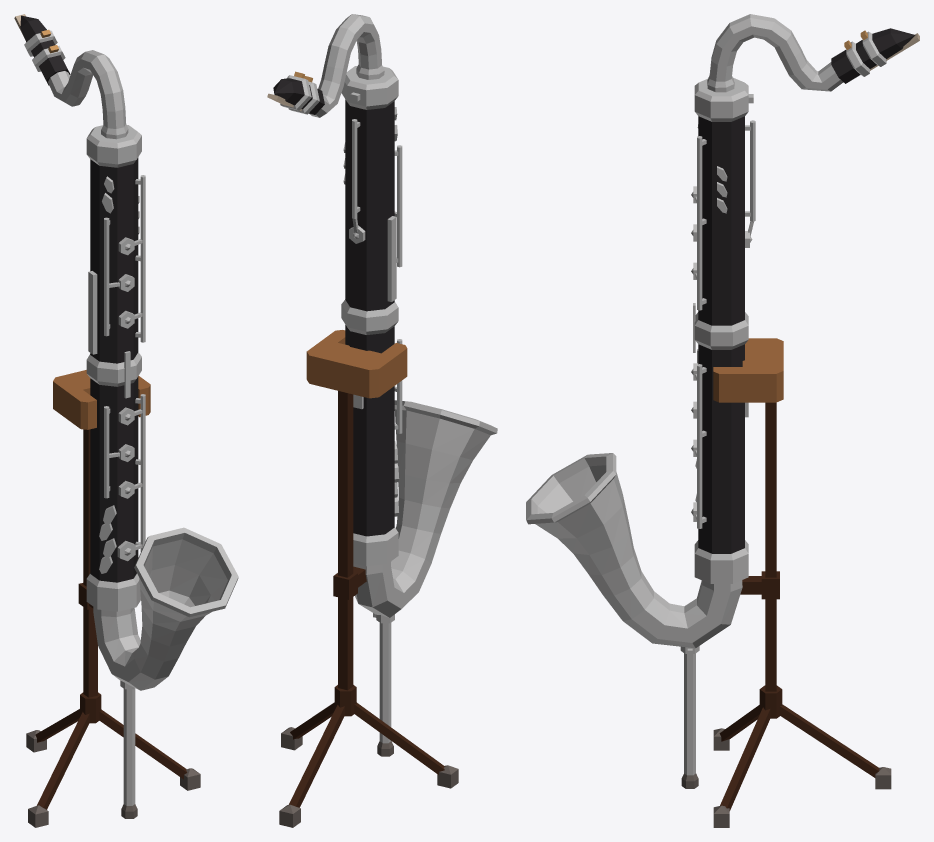
Rendered from bass-clarinet-244d78.glb.
3 renders of one model, left to right at view 1: azimuth 30°, elevation 25°; view 2: azimuth 150°, elevation 25°; view 3: azimuth 270°, elevation 25°, orthographic. The views are drawn at different scales.
Visible parts, largest first — view 1: clarinet-metal, clarinet, stand-mesh-metal, stand-mesh, mouthpiece-mesh, mouthpiece-mesh-metal; view 2: clarinet-metal, clarinet, stand-mesh-metal, stand-mesh, mouthpiece-mesh, mouthpiece-mesh-metal; view 3: clarinet-metal, clarinet, stand-mesh-metal, stand-mesh, mouthpiece-mesh, mouthpiece-mesh-metal.
Part boxes in pixels (x1,y1,x2,y2): clarinet-metal: [48, 50, 238, 805]; clarinet: [90, 157, 138, 818]; stand-mesh-metal: [35, 429, 187, 809]; stand-mesh: [26, 370, 200, 827]; mouthpiece-mesh: [14, 14, 70, 85]; mouthpiece-mesh-metal: [24, 29, 65, 71]; clarinet-metal: [309, 14, 497, 743]; clarinet: [345, 99, 394, 756]; stand-mesh-metal: [289, 391, 444, 807]; stand-mesh: [279, 330, 458, 827]; mouthpiece-mesh: [267, 78, 324, 114]; mouthpiece-mesh-metal: [280, 71, 319, 114]; clarinet-metal: [526, 14, 843, 775]; clarinet: [681, 116, 744, 788]; stand-mesh-metal: [719, 402, 879, 810]; stand-mesh: [713, 338, 891, 827]; mouthpiece-mesh: [831, 28, 919, 83]; mouthpiece-mesh-metal: [844, 30, 886, 76].
Bounding box in the file's own units: 0.2826 × 1.21 × 0.5601.
